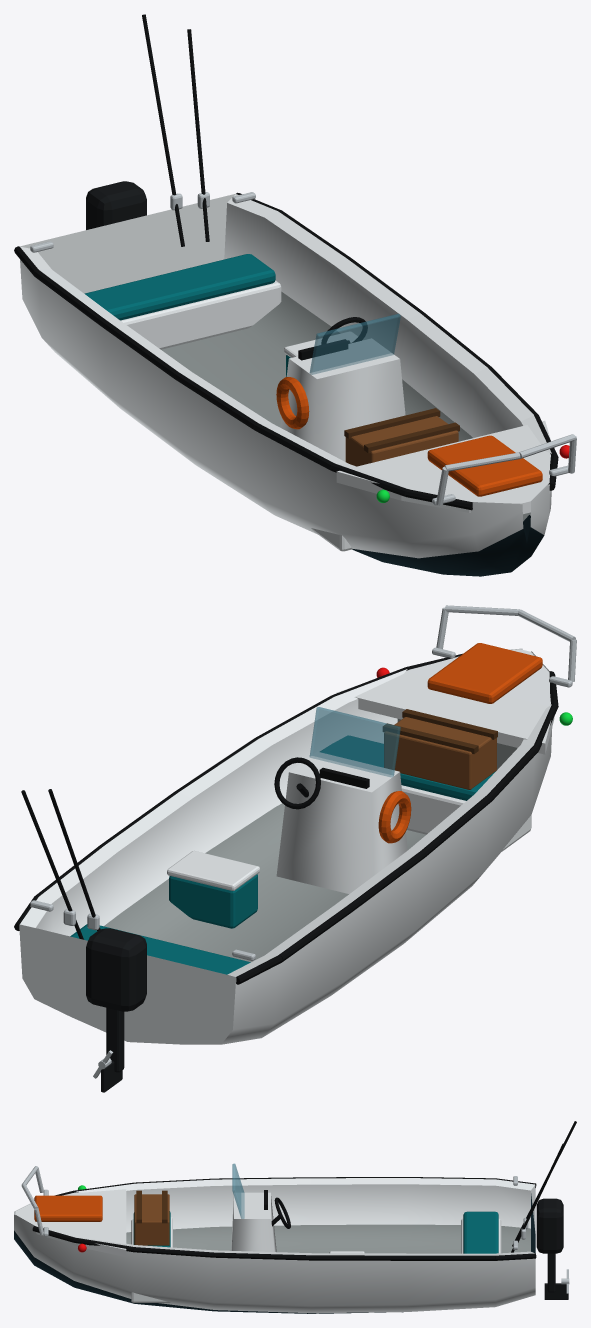
The model's file is boat.obj.
3 renders of one model, top to bottom at view 1: azimuth 30°, elevation 25°; view 2: azimuth 150°, elevation 25°; view 3: azimuth 270°, elevation 25°, orthographic. The views are drawn at different scales.
Visible parts, largest first — view 1: Hull, Console, SternBenchCushion, BowDeck, SternBenchBase, OrangeHatch, Windshield, Crate, MotorCowling, LifeRing, Rod2, Rod1 (+6 smaller); view 2: Hull, Console, BowDeck, Crate, MotorCowling, Windshield, OrangeHatch, Cooler, CoolerLid, MidBenchCushion, SternBenchCushion, MidBenchBase (+10 smaller); view 3: Hull, BowDeck, Console, OrangeHatch, Crate, SternBenchCushion, MotorCowling, RubRail.002, RubRail.003, RubRail.001, RubRail.004, Windshield (+5 smaller).
Part boxes in pixels (<box>): Hull: <box>19,193,551,576</box>; Console: <box>280,338,405,461</box>; SternBenchCushion: <box>84,254,275,320</box>; BowDeck: <box>336,420,550,514</box>; SternBenchBase: <box>120,280,281,349</box>; OrangeHatch: <box>427,435,542,496</box>; Windshield: <box>309,313,400,374</box>; Crate: <box>345,416,458,466</box>; MotorCowling: <box>86,181,146,229</box>; LifeRing: <box>276,377,309,429</box>; Rod2: <box>142,14,184,246</box>; Rod1: <box>187,29,209,241</box>; Hull: <box>19,648,552,1044</box>; Console: <box>276,752,407,893</box>; BowDeck: <box>337,649,554,754</box>; Crate: <box>384,717,496,789</box>; MotorCowling: <box>86,928,146,1011</box>; Windshield: <box>309,707,400,777</box>; OrangeHatch: <box>427,643,542,703</box>; Cooler: <box>169,874,257,928</box>; CoolerLid: <box>167,850,259,890</box>; MidBenchCushion: <box>320,735,495,800</box>; SternBenchCushion: <box>70,924,250,974</box>; MidBenchBase: <box>401,785,531,851</box>; Hull: <box>14,1178,535,1313</box>; BowDeck: <box>15,1183,126,1256</box>; Console: <box>231,1192,276,1251</box>; OrangeHatch: <box>34,1195,102,1221</box>; Crate: <box>134,1194,169,1245</box>; SternBenchCushion: <box>463,1211,498,1253</box>; MotorCowling: <box>536,1198,563,1253</box>; RubRail.002: <box>311,1255,407,1260</box>; RubRail.003: <box>214,1252,310,1260</box>; RubRail.001: <box>407,1255,495,1260</box>; RubRail.004: <box>134,1247,214,1257</box>; Windshield: <box>232,1163,244,1218</box>.
Size of the model in its own units: 2.39 by 2.68 by 7.01.
